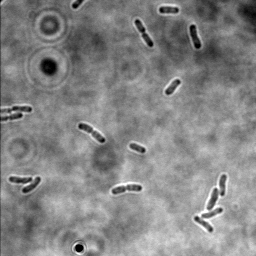Dividing: (76, 121, 106, 146), (132, 18, 155, 49), (110, 182, 143, 196), (1, 105, 34, 116), (1, 111, 25, 123)
Rod: (192, 215, 214, 234), (188, 23, 203, 50), (204, 187, 220, 212), (20, 176, 41, 195), (164, 76, 182, 96), (200, 207, 224, 220), (127, 141, 147, 155), (217, 173, 228, 197), (7, 175, 33, 184), (158, 5, 180, 15)
